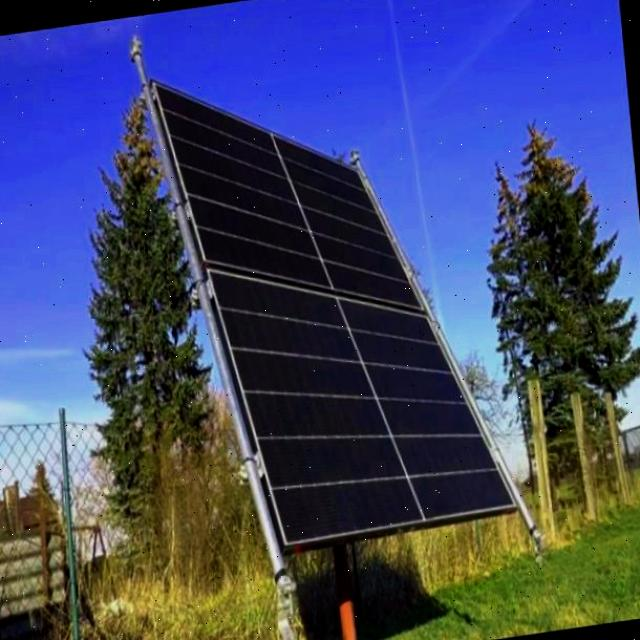Normal Solar Panel: (158, 32, 520, 549)
